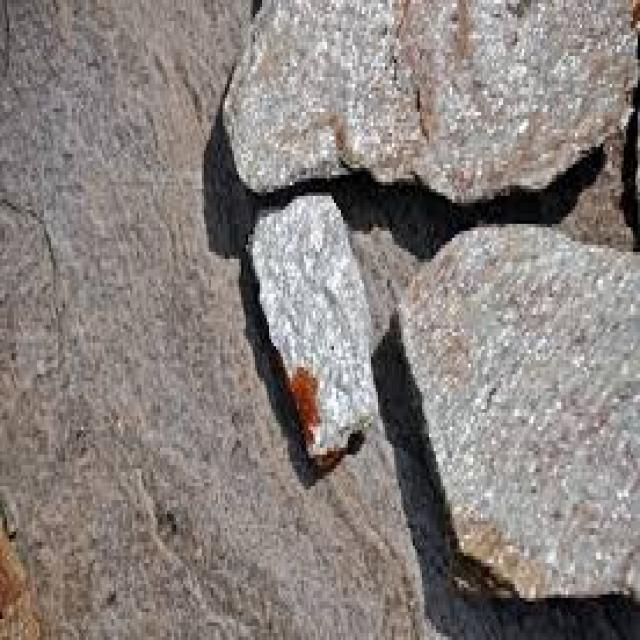Metamorphic: (387, 217, 640, 591), (216, 3, 635, 200), (237, 185, 387, 479)
